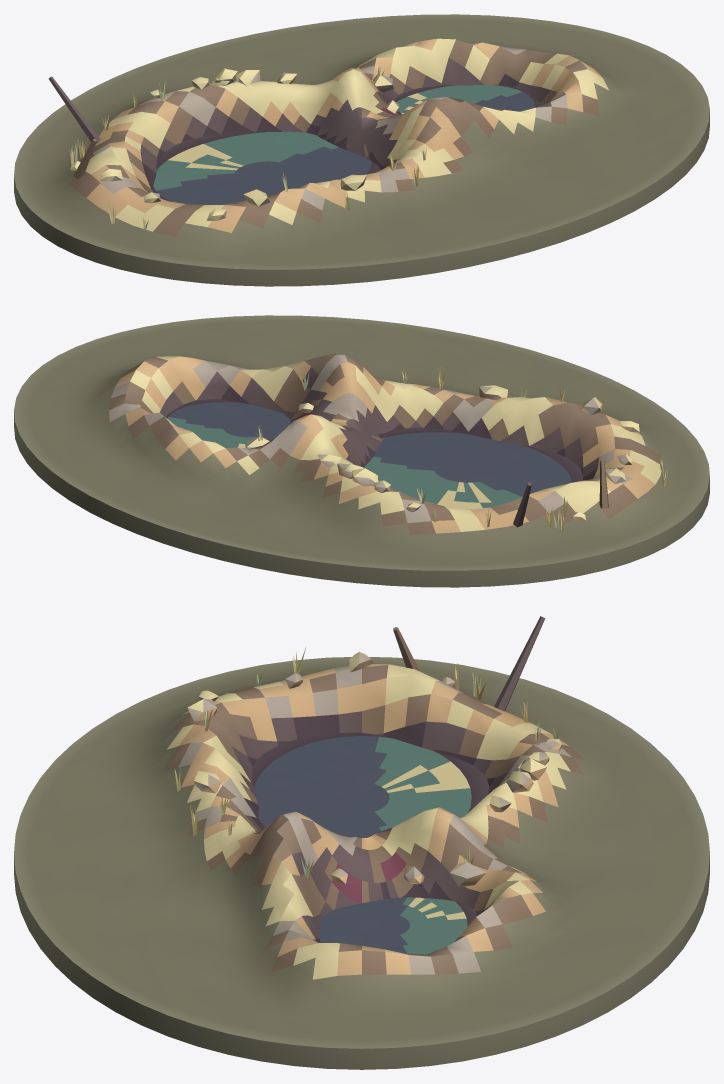
The model's file is shell_craters_v3.glb.
3 views of the same model, one above another, from view 1: azimuth 30°, elevation 25°; view 2: azimuth 150°, elevation 25°; view 3: azimuth 270°, elevation 25° (orthographic). The views are drawn at different scales.
Visible parts, largest first — view 1: Body; view 2: Body; view 3: Body.
Boxes of the visible parts, left/top/right/bottom form: Body: left=14, top=14, right=709, bottom=286; Body: left=14, top=315, right=709, bottom=587; Body: left=14, top=616, right=709, bottom=1069.
Size of the model in its own units: 1.6 by 0.2559 by 1.2.
